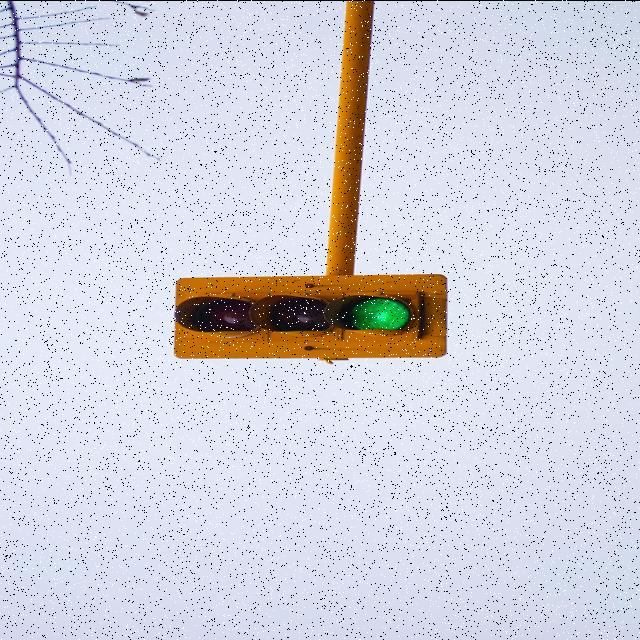green: (164, 282, 440, 344)
